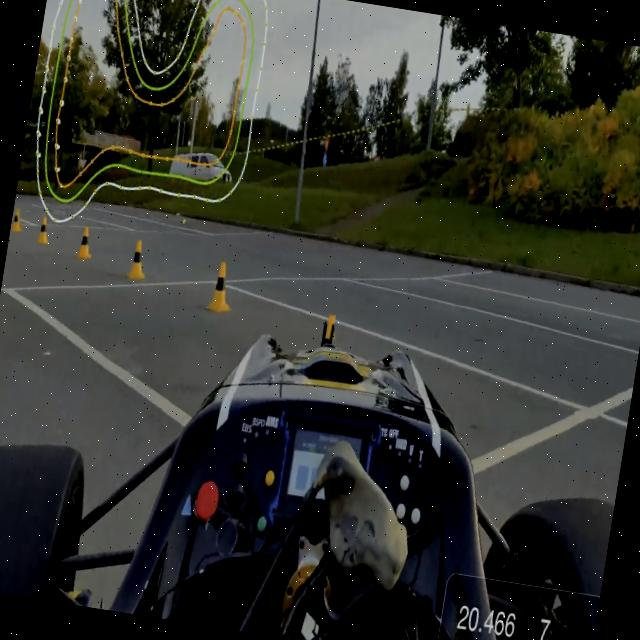yellow_cone: (206, 260, 238, 314), (126, 238, 151, 282), (77, 226, 95, 260), (38, 215, 52, 244), (10, 206, 24, 234)
